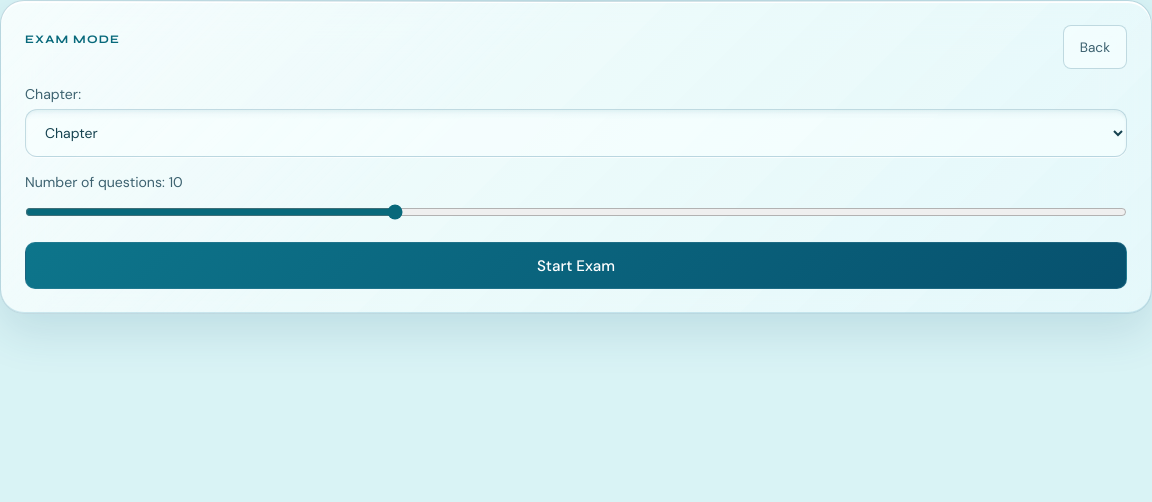
server-graded exam › keeps the question available for retry when answer submission fails
The width and height of the screenshot is (1152, 502).
What coordinates should you click on to do the following:
click the button "Start Exam"
I would click on:
 (576, 266)
Its box is 25,242 -> 1127,289.
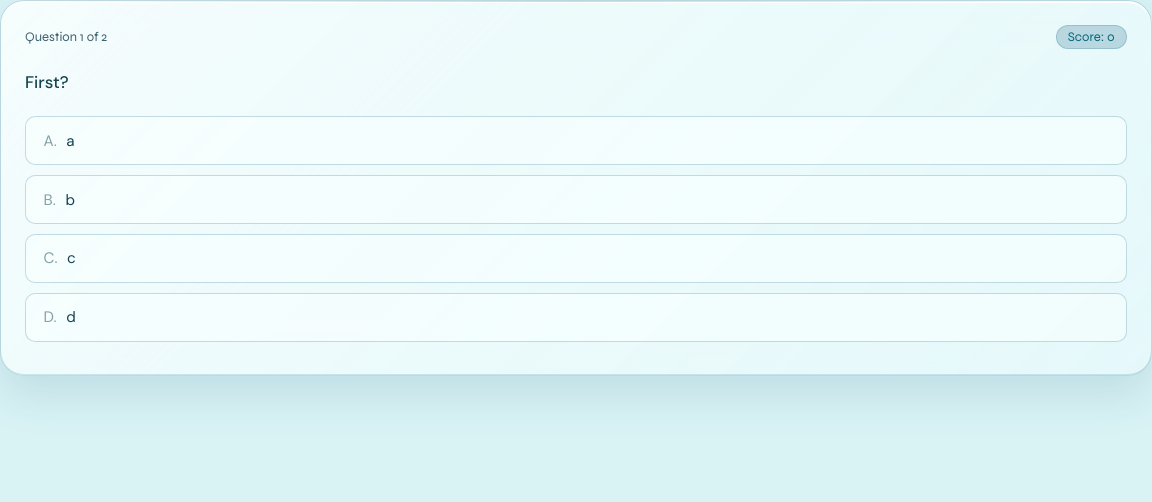
Expected: the text "First?" is shown, 25,71 -> 69,93
What coordinates should you click on to do the following:
click the button "A.a"
I would click on:
 (49, 141)
Its box is 25,116 -> 1127,166.
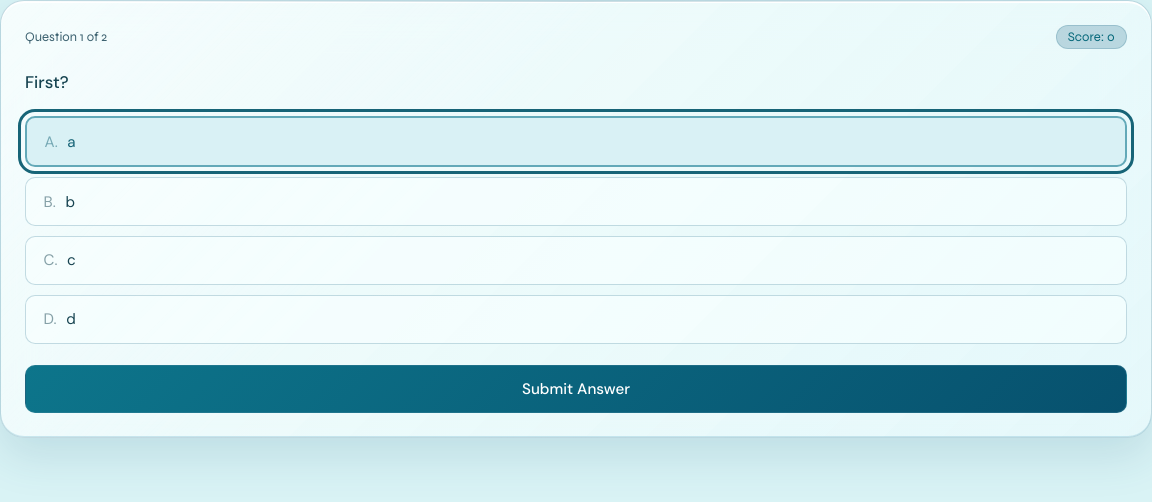
What coordinates should you click on to do the following:
click the button "Submit Answer"
I would click on:
 (576, 389)
Its box is 25,365 -> 1127,413.
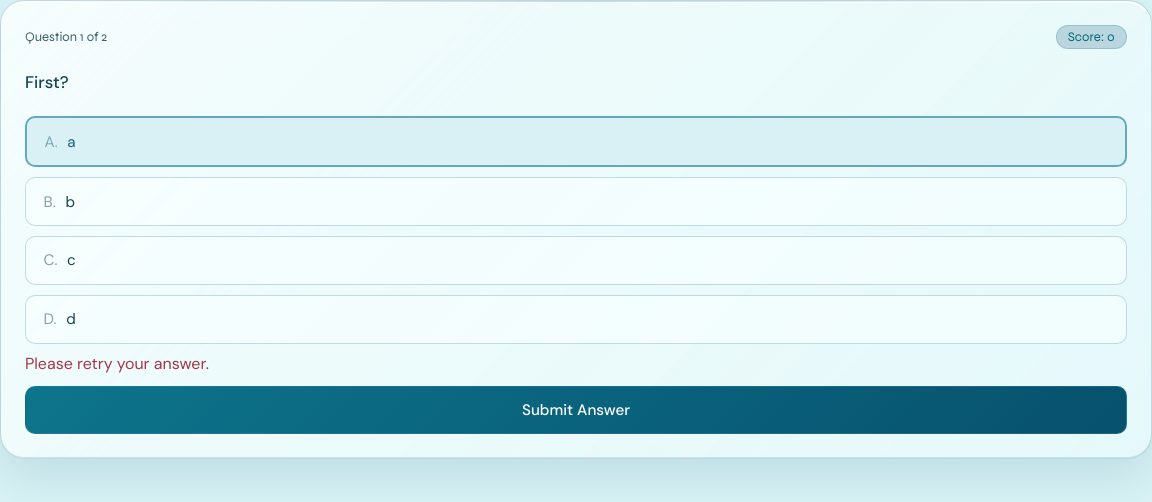
Expected: the button "Next Question" is not shown
Expected: the message reads "Please retry your answer.", 25,353 -> 209,374
What coordinates should you click on to do the following:
click the button "Submit Answer"
I would click on:
 (576, 410)
Its box is 25,386 -> 1127,434.
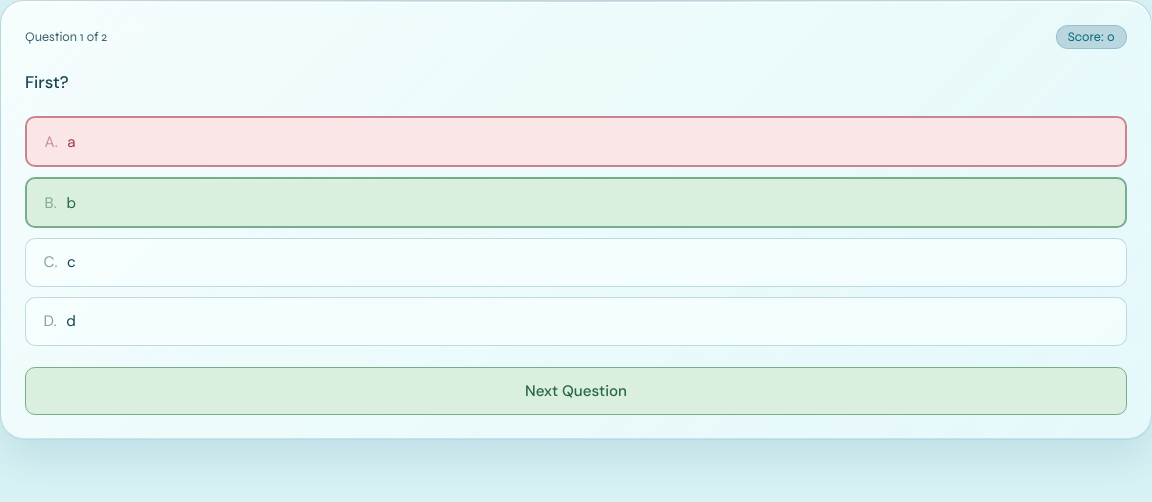
Expected: the button "Next Question" is shown, 25,367 -> 1127,415
